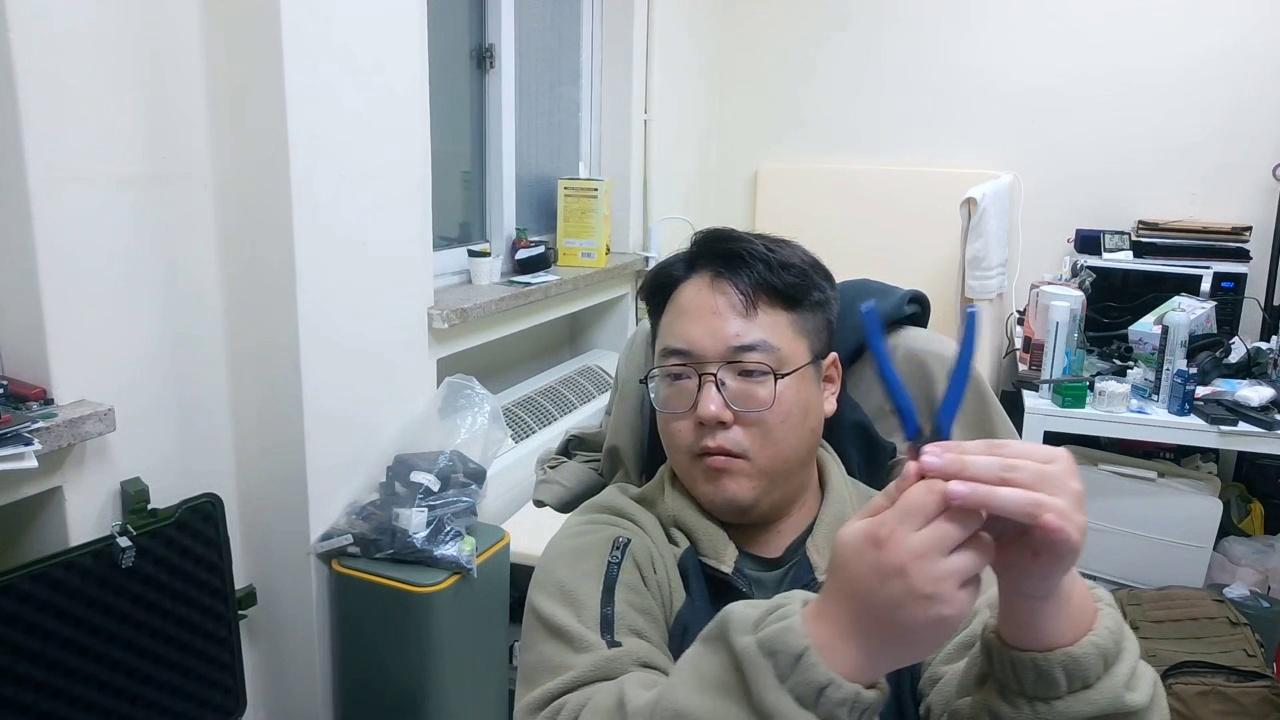blue_pliers: (858, 297, 982, 462)
